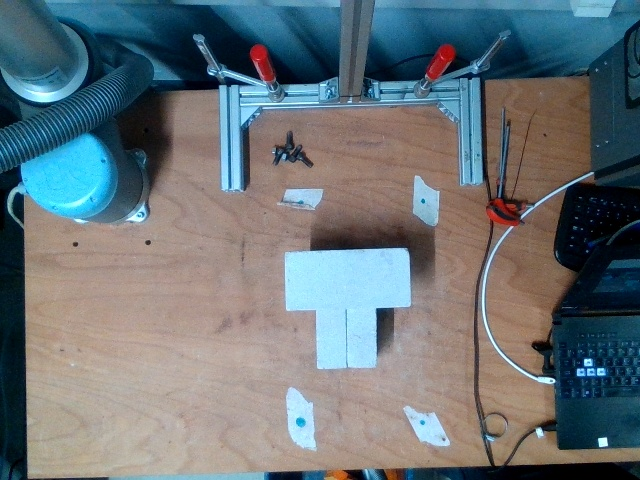brick: (285, 248, 412, 309)
